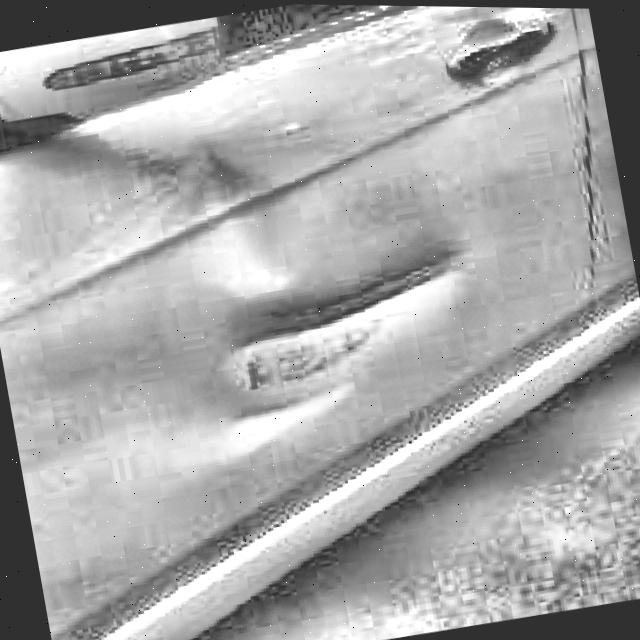door_dent: (193, 242, 482, 442), (185, 138, 316, 309)
